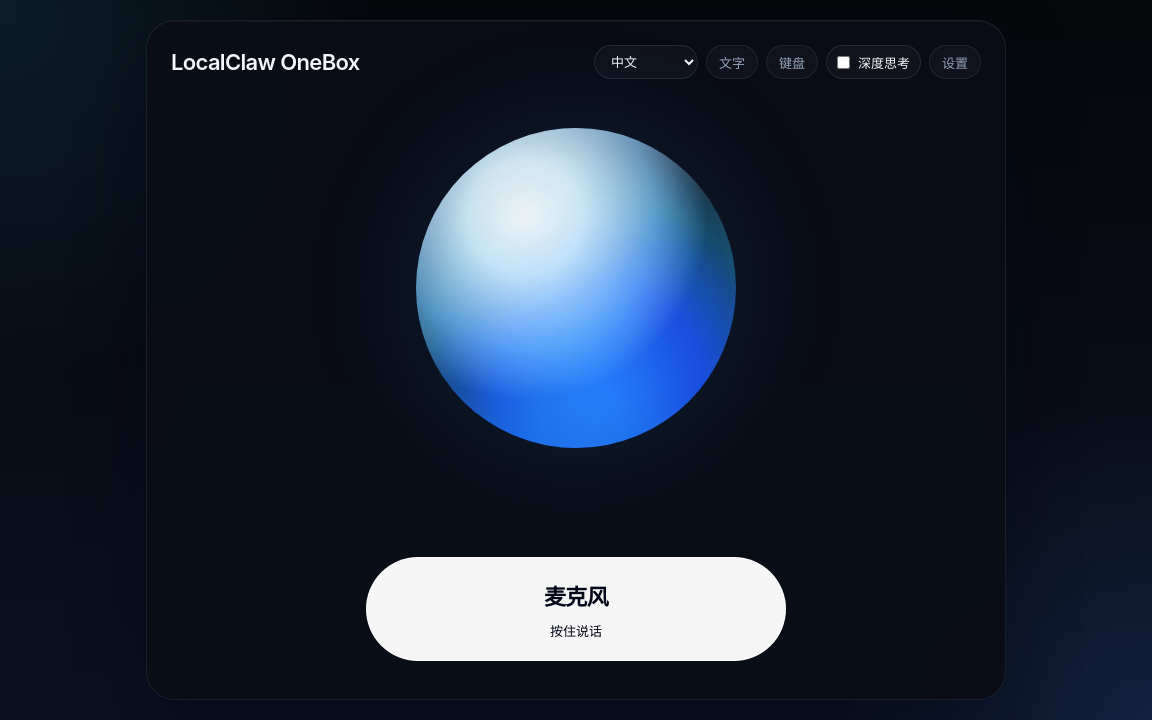
shows the ASR user message before assistant generation finishes
This screenshot has width=1152, height=720.
Press the mouse on the button "麦克风 按住说话" at (576, 609), box [366,557,786,661]
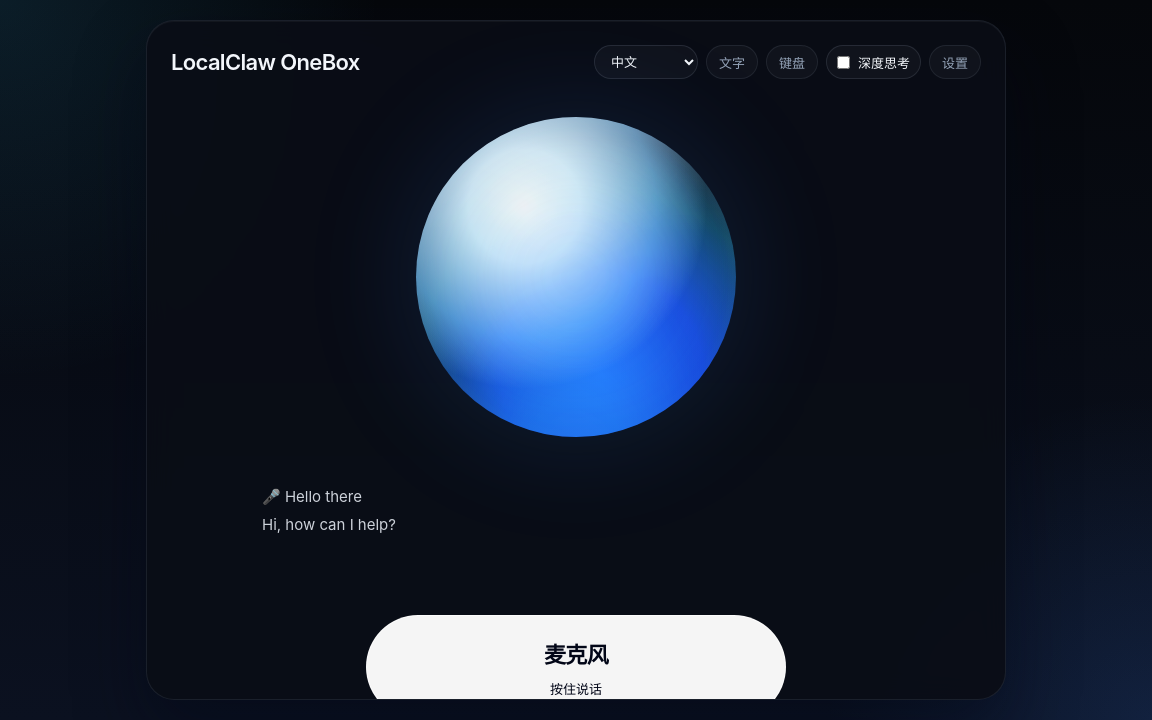
Now the text "🎤 Hello there" is shown, box [262,487,362,506]
Now the text "Hi, how can I help?" is shown, box [262,515,396,534]
